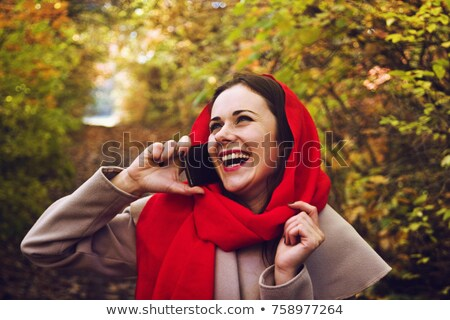phone: (171, 130, 219, 190)
talk: (134, 106, 267, 204)
